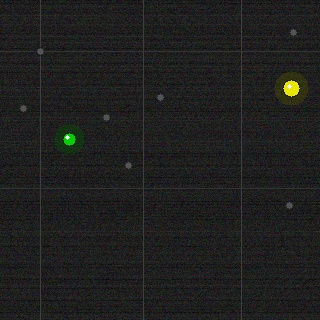green_normal: (61, 131, 77, 147)
yellow_warning: (281, 78, 301, 98)
